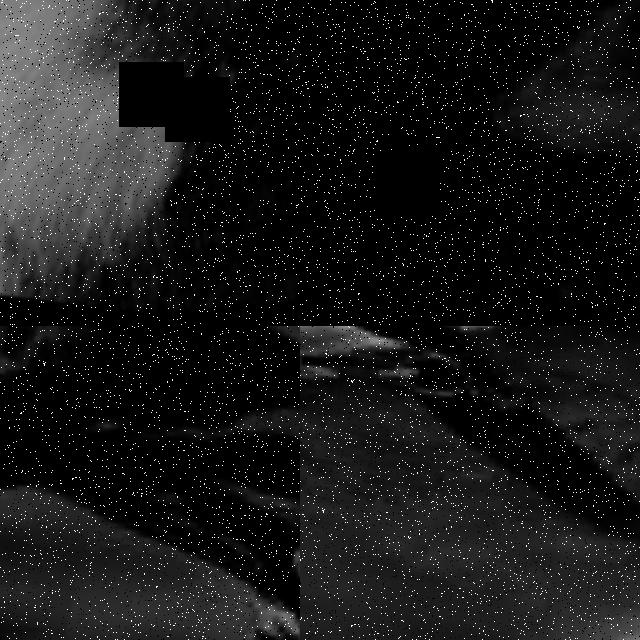dog: (300, 0, 640, 326), (300, 326, 640, 640), (0, 326, 300, 640)
wolf: (0, 0, 300, 326)
